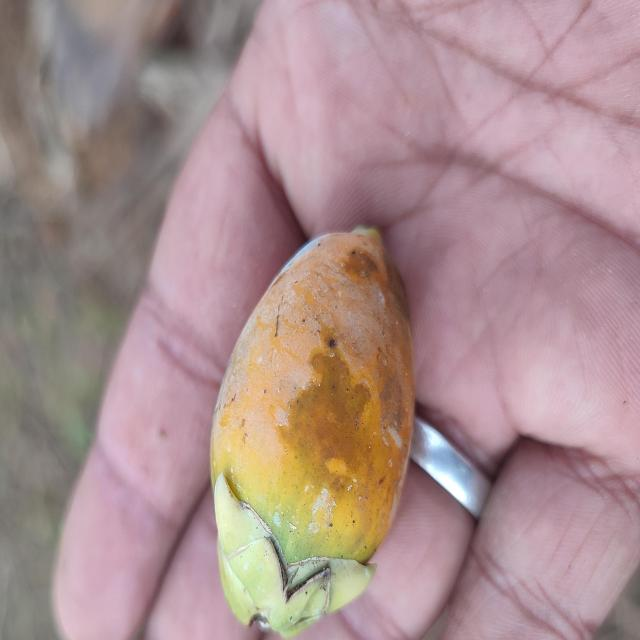good: (208, 227, 416, 640)
